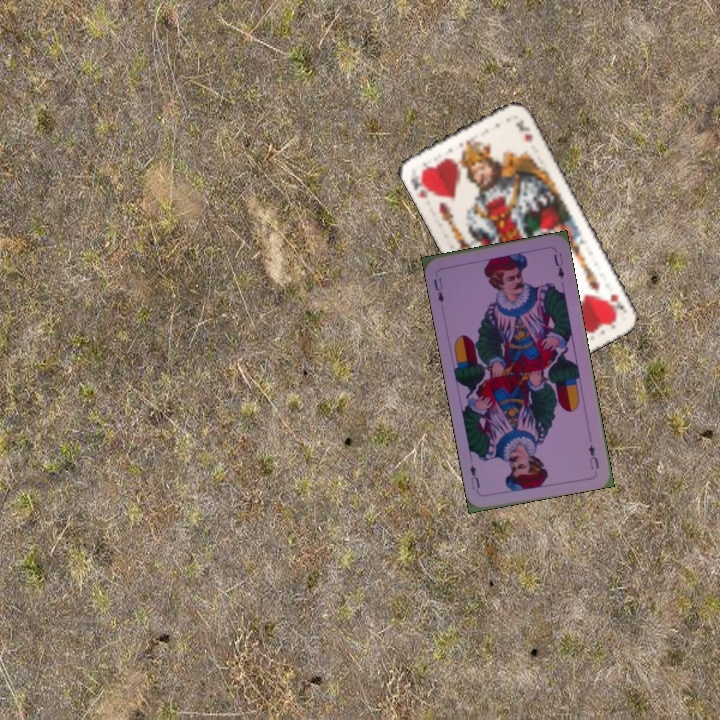EU: (430, 274, 447, 305), (585, 440, 601, 472)
HK: (406, 169, 436, 201), (606, 289, 629, 315)
